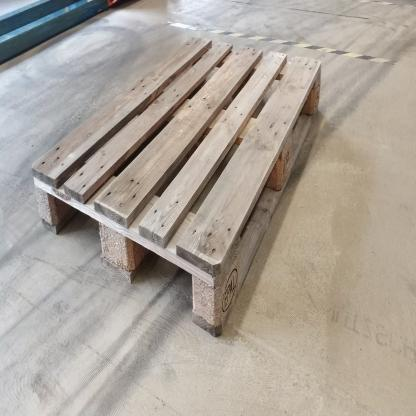BoxFace: (29, 32, 325, 344)
